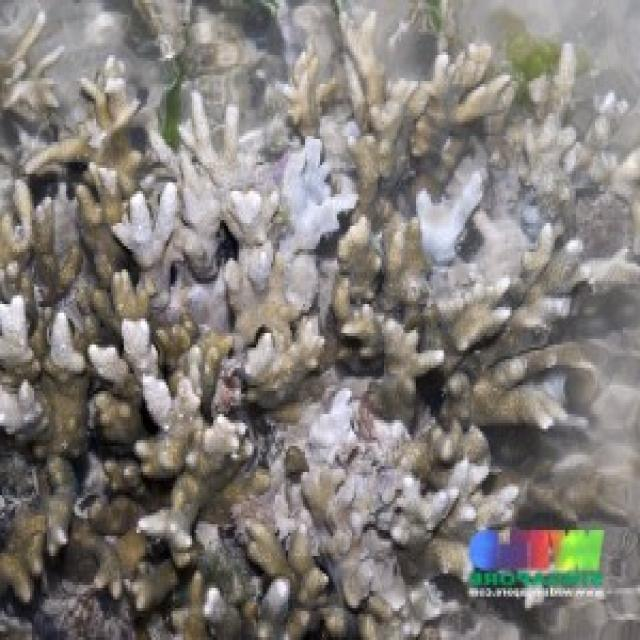Bleached: (225, 395, 516, 633), (124, 322, 253, 459), (277, 136, 359, 246), (46, 311, 159, 370), (420, 169, 488, 267), (295, 389, 359, 475), (1, 295, 36, 444), (139, 514, 195, 546)
Healthy: (1, 56, 219, 638), (398, 215, 640, 351), (319, 24, 509, 168), (483, 54, 640, 215), (414, 351, 593, 465), (355, 168, 421, 385), (229, 521, 332, 640), (523, 463, 634, 530), (462, 418, 518, 509)
